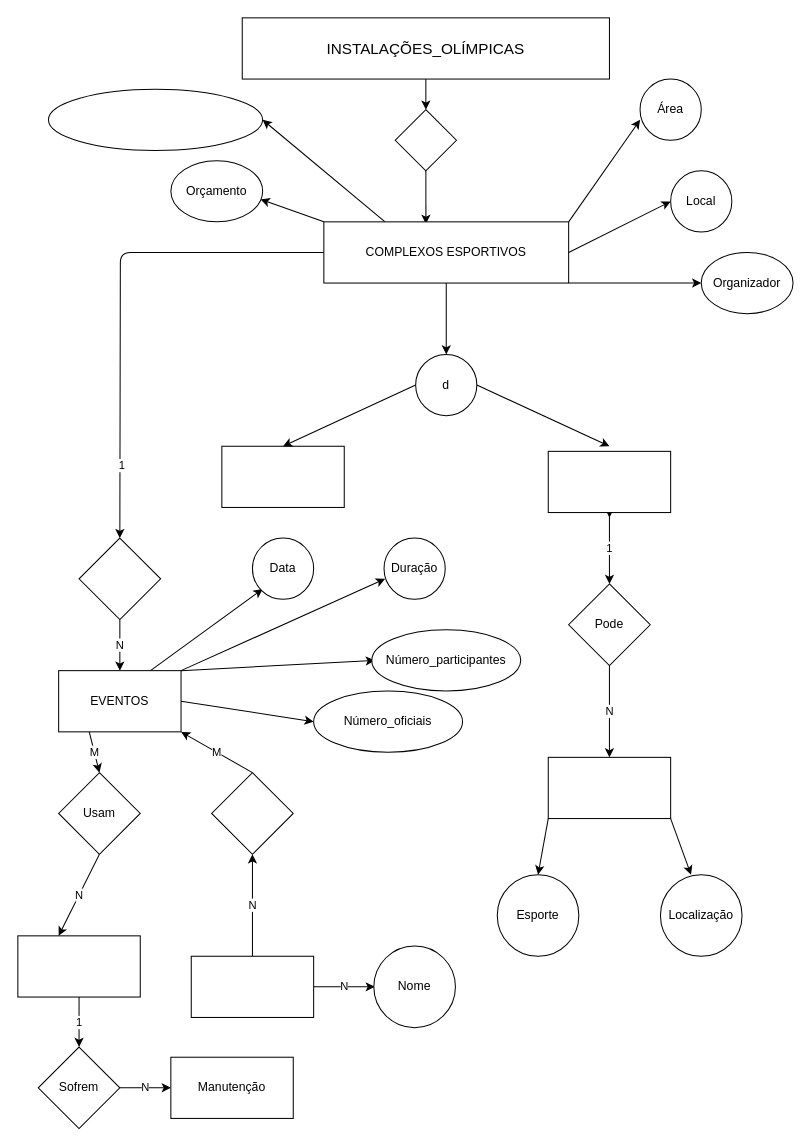
The diagram is 811 pixels wide and 1146 high, and some of its shapes have lost their labels. The centre of each missing label's shape, as x and y in pixels:
"Equipamentos" belongs at point 78,966.
"Mantém" belongs at point 119,578.
"Número_instalações_necessárias" belongs at point 155,119.
"OFICIAIS" belongs at point 252,986.
"Participam" belongs at point 252,813.
"POLIESPORTIVO" belongs at point 609,481.
"TEM" belongs at point 425,140.
"UM_ESPORTE" belongs at point 282,476.
"ÁREAS" belongs at point 609,787.
